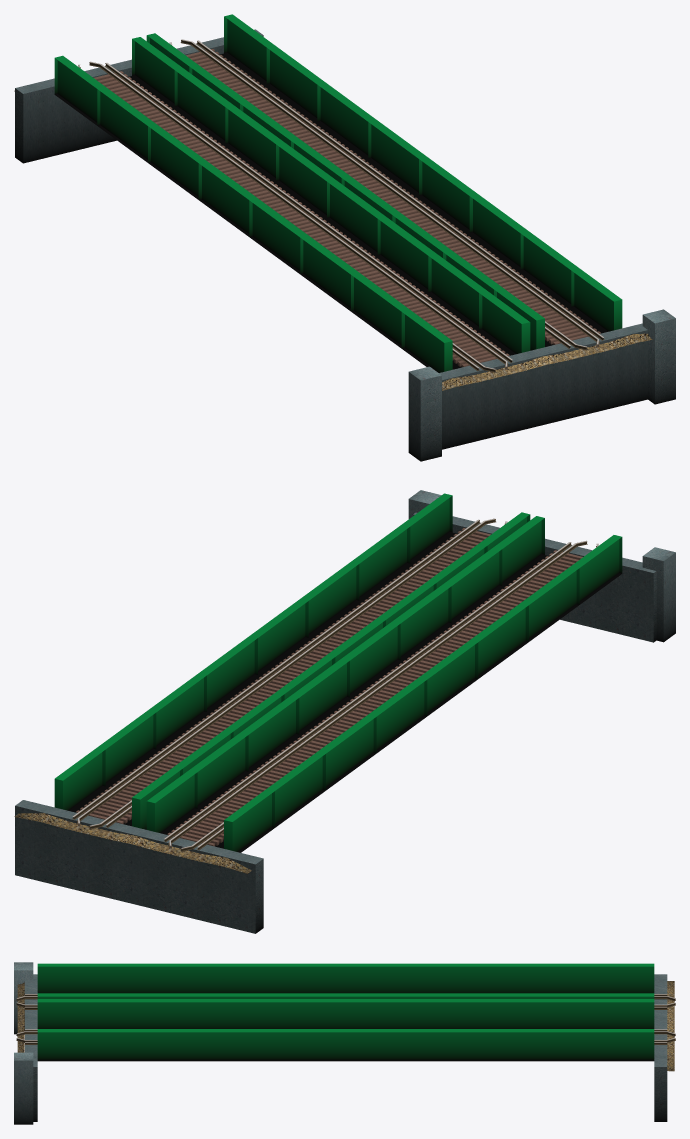
File: 2RAIL_TEKKYOU.glb
The picture shows the model from 3 angles, top to bottom: view 1: azimuth 30°, elevation 25°; view 2: azimuth 150°, elevation 25°; view 3: azimuth 270°, elevation 25°; orthographic projection. The views are drawn at different scales.
Parts seen in each view (by area): view 1: rail, last, fast, bone_7, bone_5, bone_1, bone_3, bone_4, bone_2, bone_6, bone_0; view 2: rail, fast, last, bone_5, bone_3, bone_1, bone_0, bone_2, bone_6, bone_4, bone_7; view 3: rail, last, fast.
Boxes of the visible parts, x1,y1,x2,y2 form: rail: [54, 14, 622, 372]; last: [408, 309, 675, 461]; fast: [14, 29, 263, 163]; bone_7: [439, 301, 600, 367]; bone_5: [337, 227, 507, 294]; bone_1: [134, 78, 304, 146]; bone_3: [236, 153, 405, 220]; bone_4: [289, 191, 454, 256]; bone_2: [187, 117, 353, 181]; bone_6: [390, 266, 556, 330]; bone_0: [94, 49, 251, 107]; rail: [54, 493, 622, 852]; fast: [14, 800, 263, 933]; last: [408, 490, 675, 642]; bone_5: [319, 596, 489, 663]; bone_3: [218, 670, 387, 738]; bone_1: [116, 745, 286, 812]; bone_0: [76, 783, 233, 846]; bone_2: [169, 709, 335, 773]; bone_6: [372, 560, 538, 625]; bone_4: [271, 635, 436, 699]; bone_7: [421, 528, 582, 589]; rail: [16, 963, 675, 1061]; last: [14, 962, 37, 1124]; fast: [654, 974, 674, 1121].
Size of the model in its own units: 36.28 by 13.34 by 103.
Materials: 13 (4 with a texture image).
